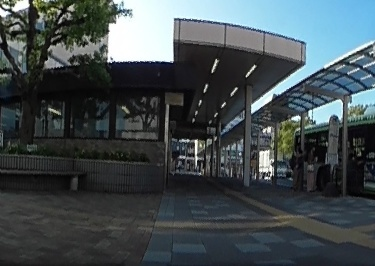person: (306, 144, 318, 193), (291, 147, 303, 190)
